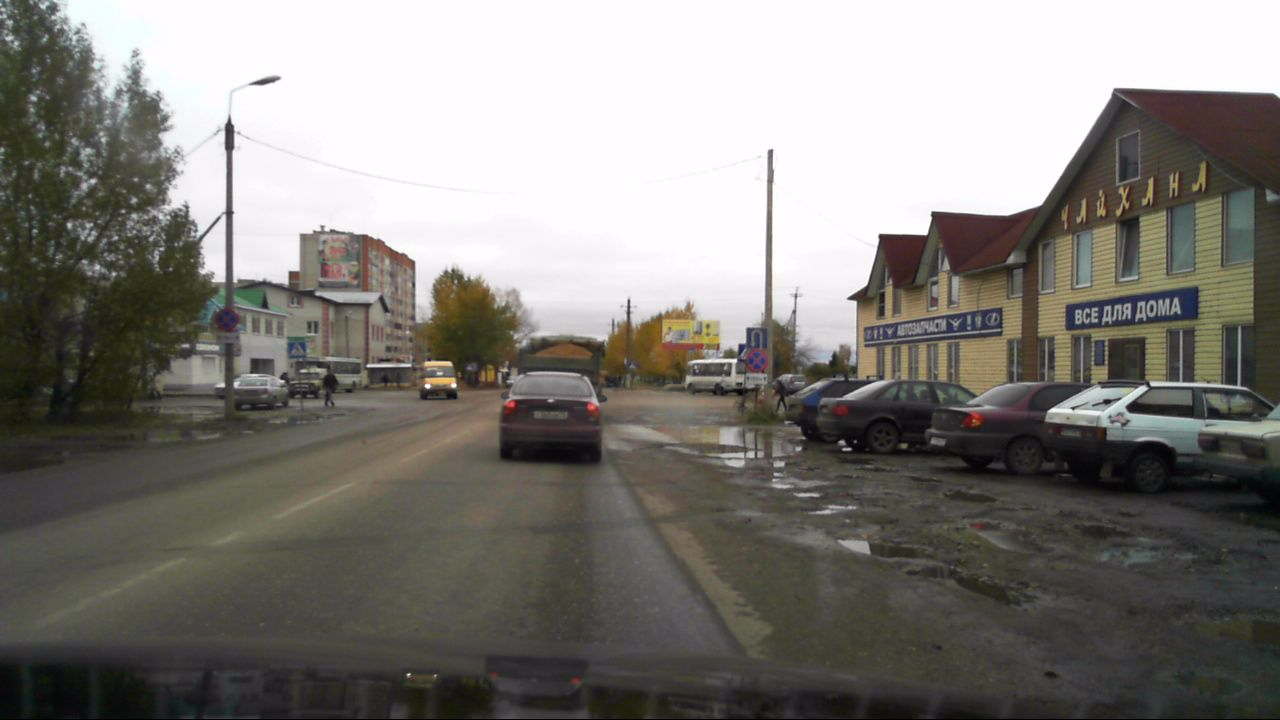No Parking: (214, 307, 237, 331)
U-turn: (746, 328, 767, 349)
